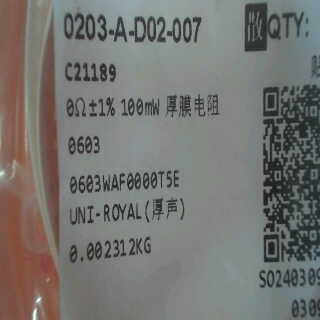0R: (66, 93, 118, 156)
